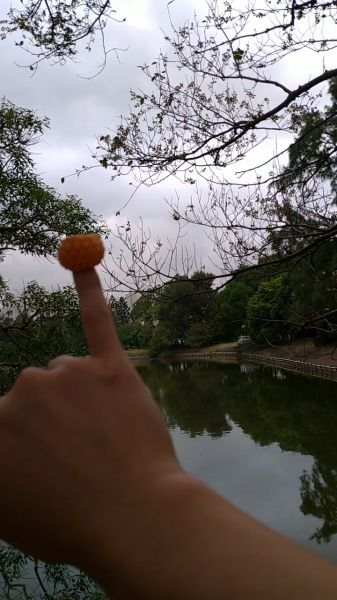eggs: (56, 233, 105, 270)
